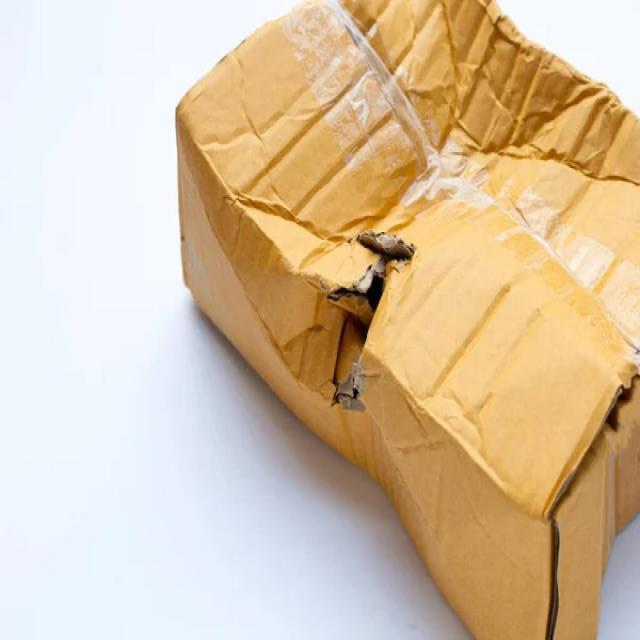hole: (308, 224, 431, 386)
